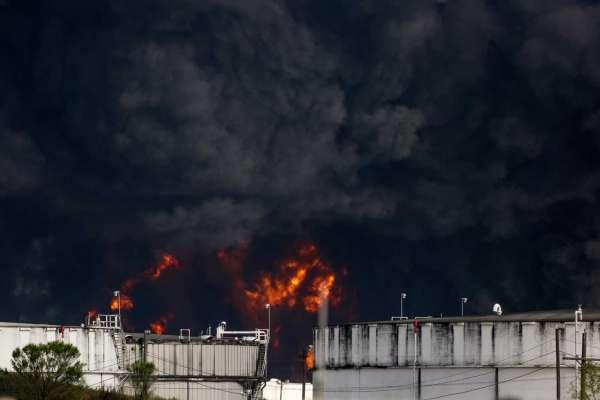fire: (242, 241, 351, 320), (148, 252, 181, 279), (109, 284, 136, 313), (149, 315, 172, 338), (305, 348, 316, 369), (87, 308, 97, 319)
